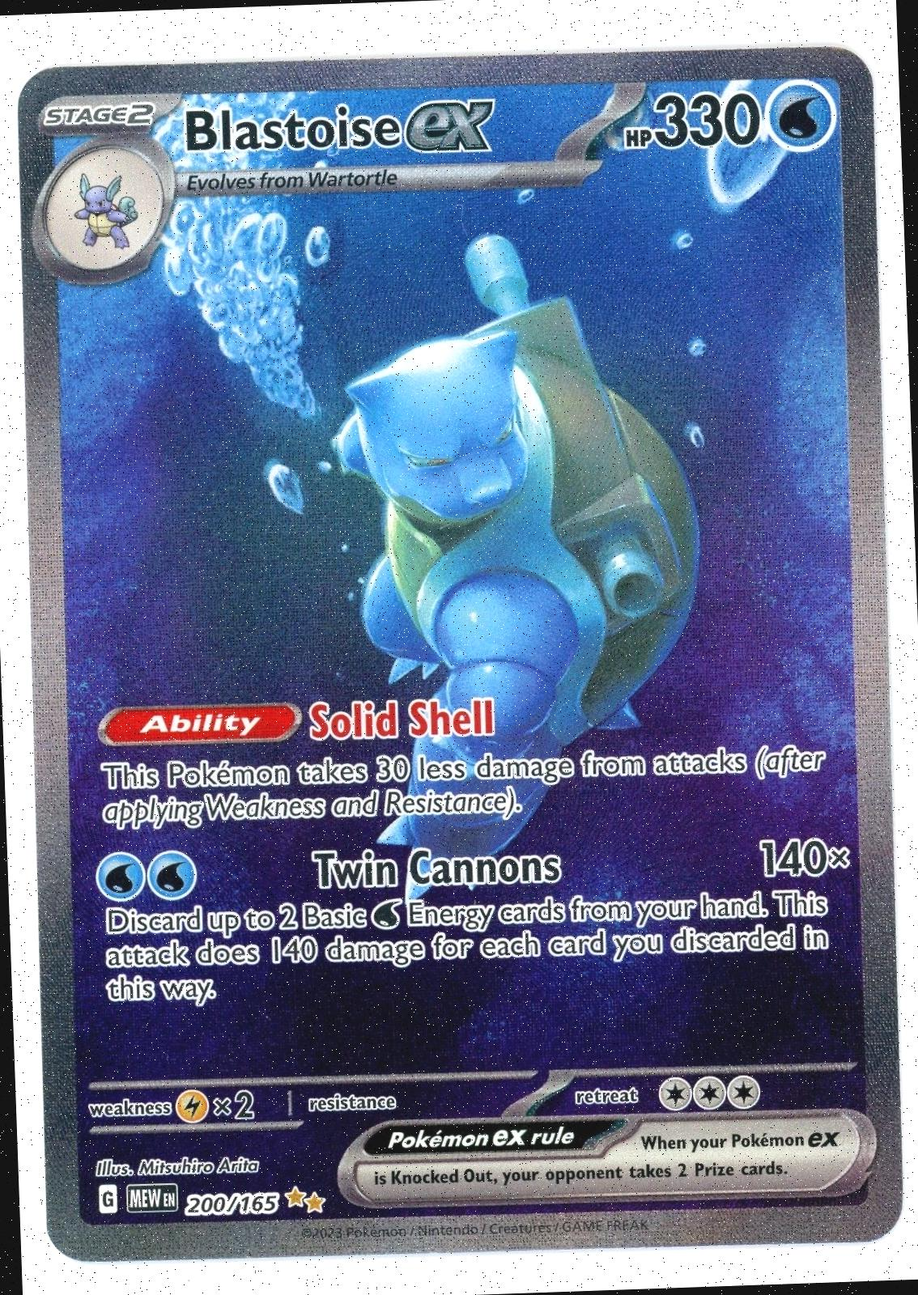card-2UtV: (17, 46, 904, 1263)
